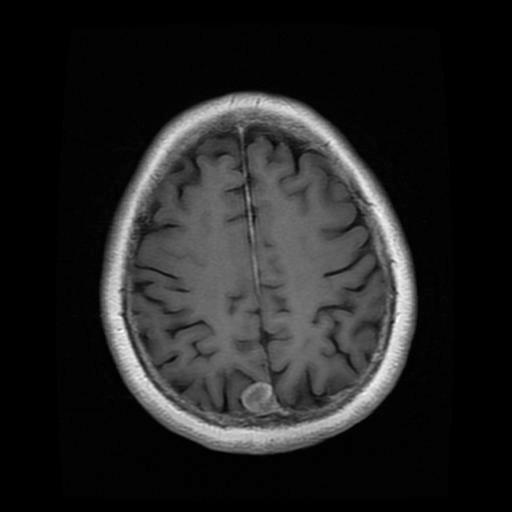Tumour-Meningioma: (217, 368, 297, 426)
